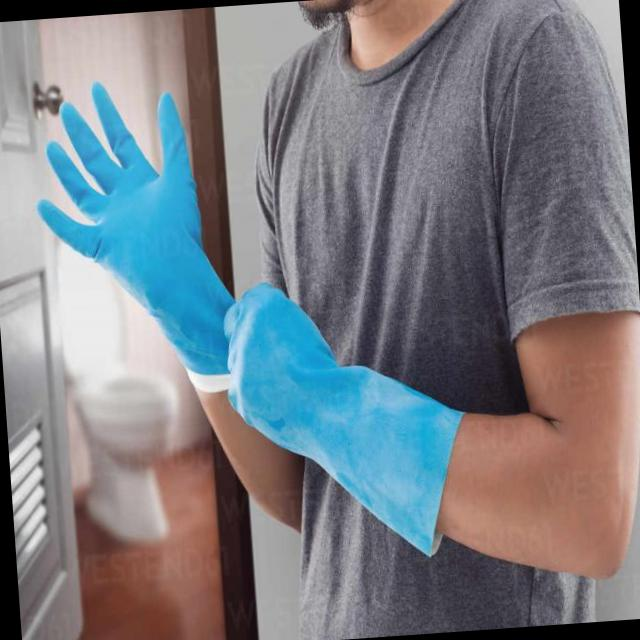Gloves: (220, 259, 464, 553), (32, 49, 234, 373)
